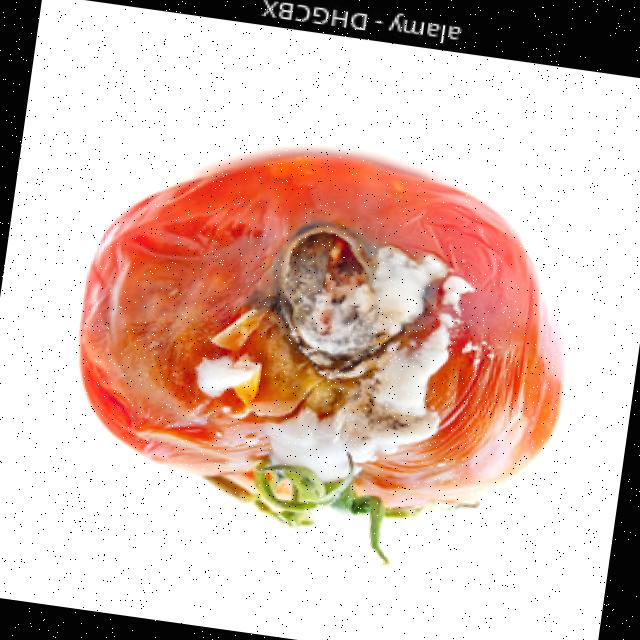Rotten: (55, 121, 592, 554)
